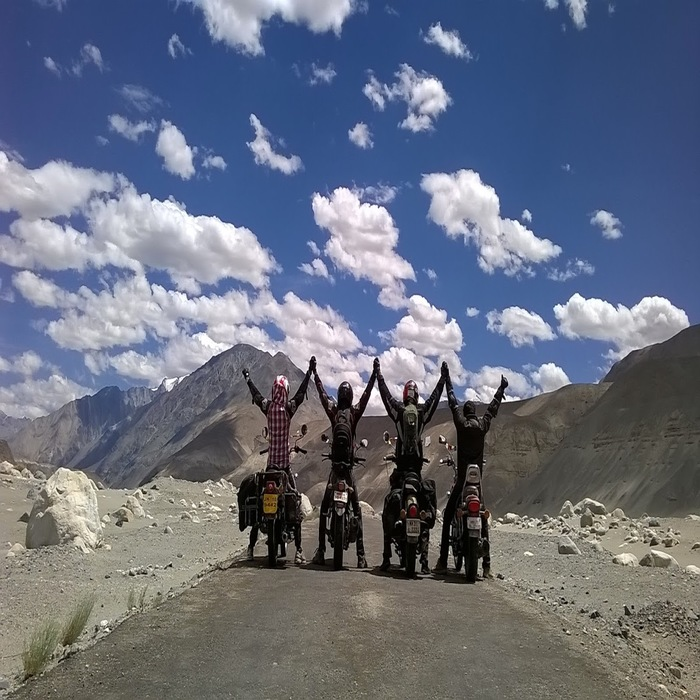h: (269, 372, 292, 406), (401, 378, 423, 409), (335, 379, 356, 410), (460, 397, 480, 422)
n: (259, 490, 281, 517), (464, 515, 485, 539), (403, 516, 424, 538), (331, 487, 350, 507)
